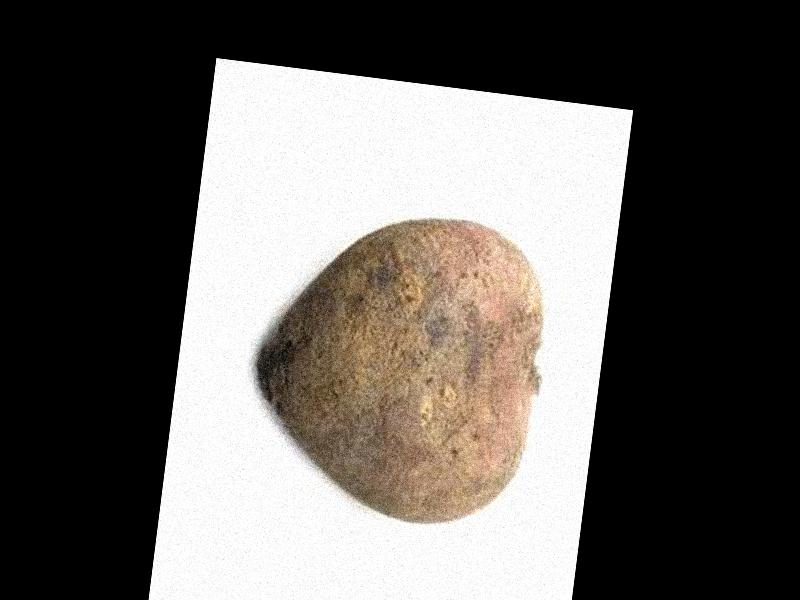Beet: (241, 196, 556, 537)
